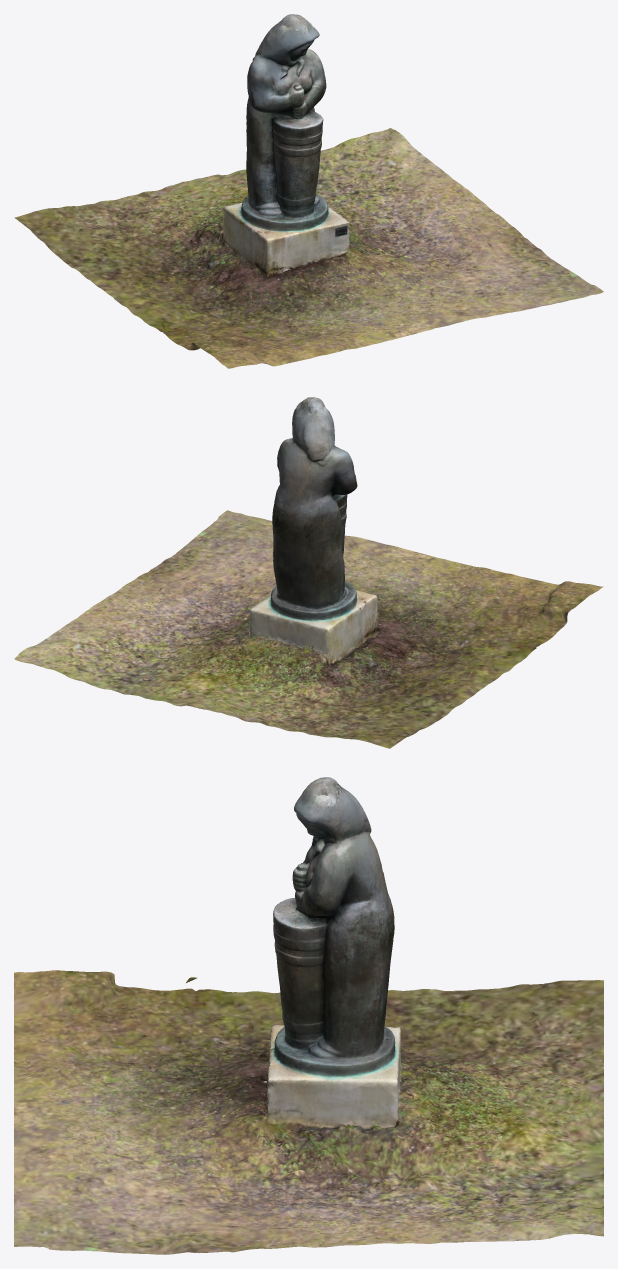
File: woman_churning_butter.obj
3 views of the same model, one above another, from view 1: azimuth 30°, elevation 25°; view 2: azimuth 150°, elevation 25°; view 3: azimuth 270°, elevation 25° (orthographic). The views are drawn at different scales.
Parts seen in each view (by area): view 1: Object; view 2: Object; view 3: Object.
Boxes of the visible parts, box(x1,y1,x2,y2) form: Object: box(14, 14, 603, 368); Object: box(14, 397, 603, 748); Object: box(14, 777, 603, 1254).
Size of the model in its own units: 3.92 by 2.49 by 3.85.
